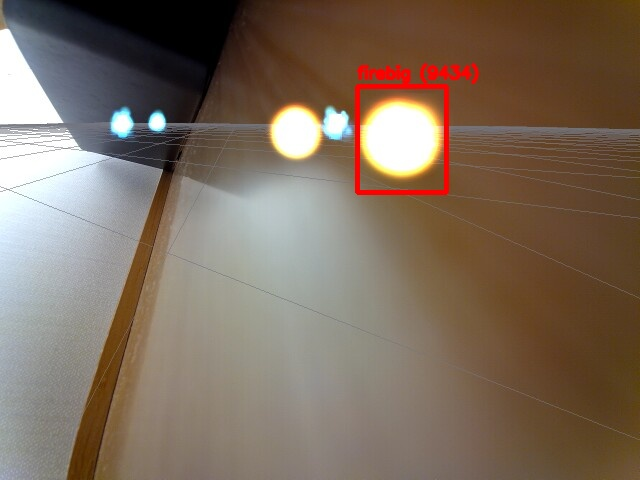firebig: (357, 86, 446, 192)
